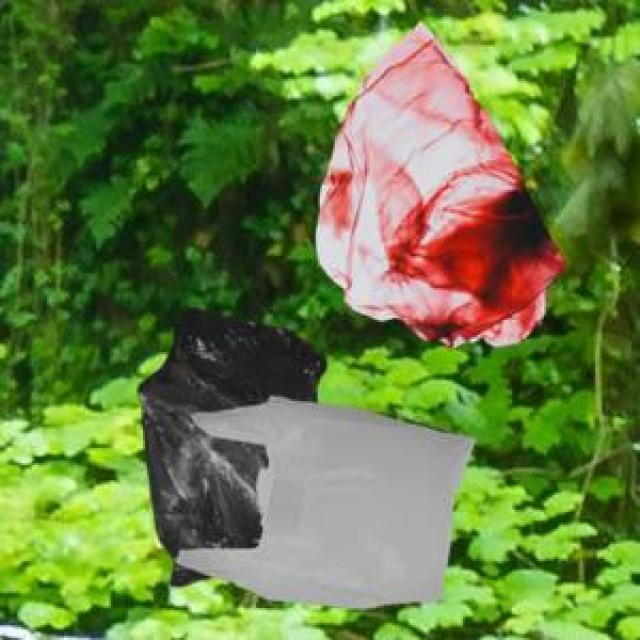Trashbag: (131, 312, 330, 561)
